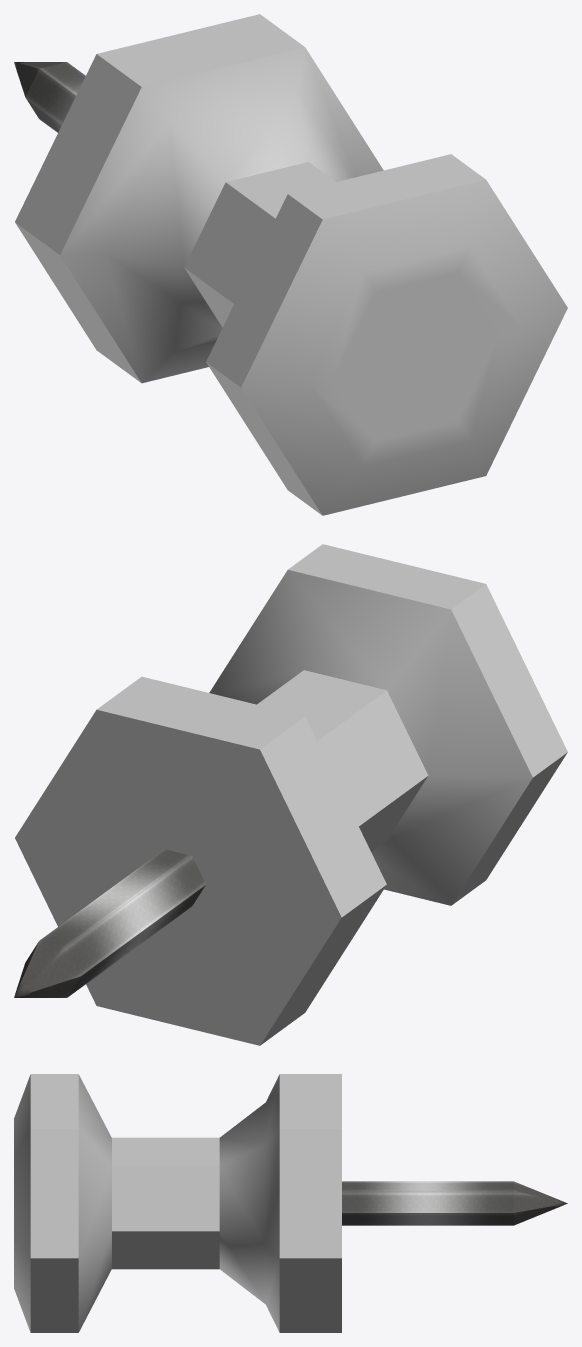
File: Tack_B.FBX
The picture shows the model from 3 angles, top to bottom: view 1: azimuth 30°, elevation 25°; view 2: azimuth 150°, elevation 25°; view 3: azimuth 270°, elevation 25°; orthographic projection. The views are drawn at different scales.
Parts seen in each view (by area): view 1: Tack; view 2: Tack; view 3: Tack.
Part boxes in pixels (<box>): Tack: <box>14,14,567,515</box>; Tack: <box>14,544,567,1045</box>; Tack: <box>14,1074,567,1332</box>.
Size of the model in its own units: 6.28 by 5.43 by 13.38.
